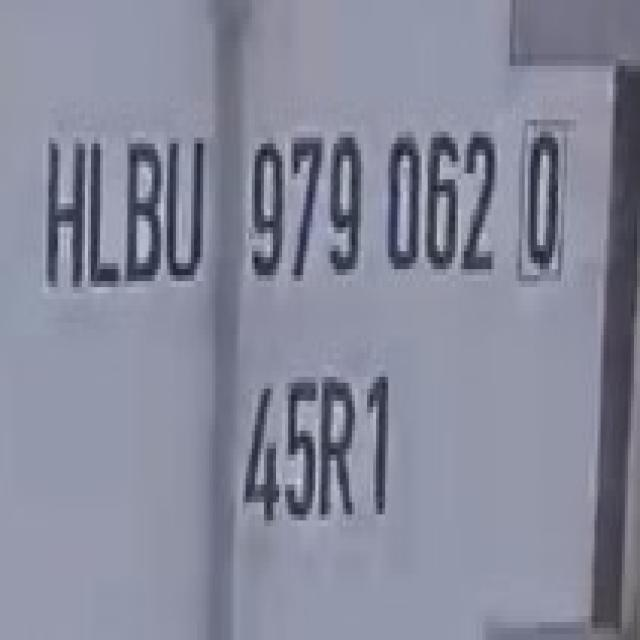dv: (512, 116, 576, 283)
owner: (35, 124, 212, 314)
serial: (236, 107, 502, 296)
size: (234, 355, 409, 540)
